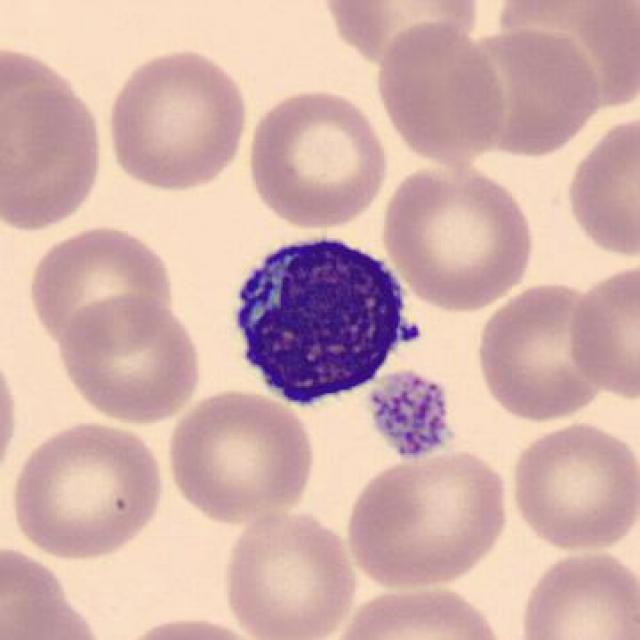Platelets: (364, 365, 464, 460)
RBC: (340, 444, 514, 592), (378, 157, 538, 312), (101, 44, 252, 196), (7, 420, 167, 562), (243, 85, 389, 231), (164, 386, 318, 524), (372, 18, 512, 169), (21, 224, 178, 354), (473, 278, 610, 425), (54, 293, 204, 427), (217, 504, 361, 640), (506, 420, 636, 556), (0, 81, 105, 235), (562, 108, 640, 266), (515, 544, 640, 638), (567, 261, 640, 404), (332, 582, 507, 640), (103, 614, 276, 638)
